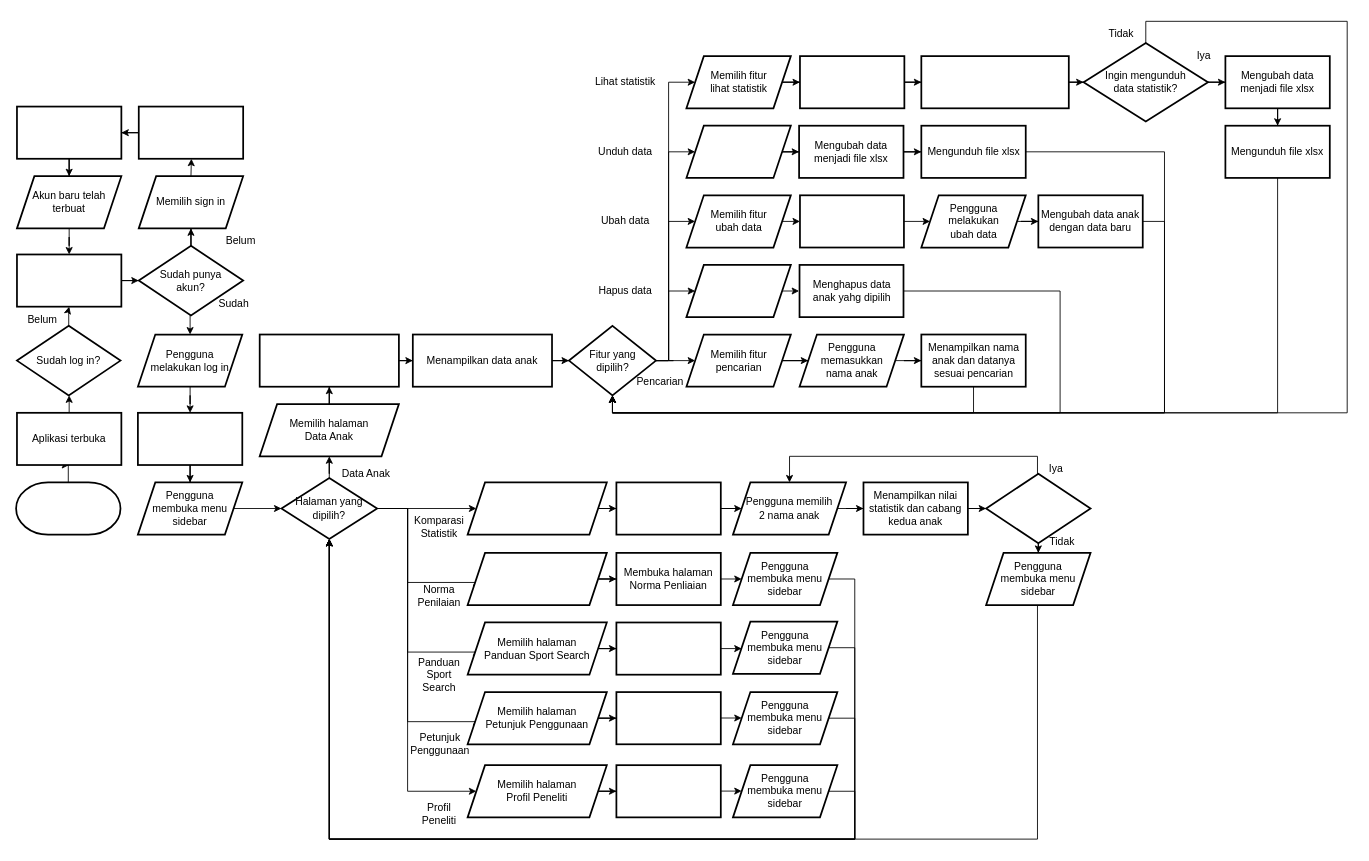
Some shapes in this 1369 by 861 pixel diagram are drawn without their labels. Here are the shapes that lost their labels. From the top down, the box of each, then its label:
(799, 55, 905, 109): Membuka halaman Statistik Anak
(920, 55, 1069, 109): Menampilkan data statistik, radar chart dan rekomendasi cabang olahraga
(16, 105, 122, 159): Pengguna melakukan sign in
(137, 105, 244, 159): Membuka halaman sign in
(685, 124, 791, 178): Memilih fitur unduh data
(799, 194, 904, 248): Membuka formulir ubah data anak
(16, 253, 122, 307): Membuka halaman log in
(685, 264, 791, 318): Memilih fitur hapus data
(258, 333, 399, 387): Membuka halaman Data Anak
(137, 412, 243, 465): Membuka halaman beranda
(15, 481, 121, 535): MULAI
(466, 481, 607, 535): Memilih halaman Komparasi Statistik
(615, 481, 721, 535): Membuka halaman Komparasi Statisik
(985, 472, 1091, 544): Memilih nama lagi?
(466, 552, 607, 606): Memilih halaman Norma Penilaian
(615, 621, 721, 675): Membuka halaman Panduan Sport Search
(615, 691, 721, 745): Membuka halaman Petunjuk Penggunaan
(615, 764, 721, 818): Membuka halaman profil Peneliti
